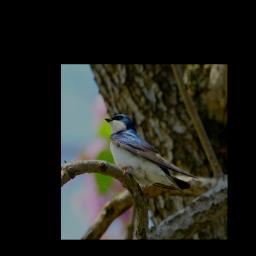Swallow: (104, 113, 199, 200)
